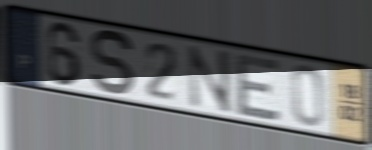0: (289, 63, 326, 129)
2: (144, 41, 179, 104)
6: (46, 20, 83, 89)
E: (235, 52, 283, 123)
N: (186, 43, 235, 117)
S: (88, 27, 137, 99)
